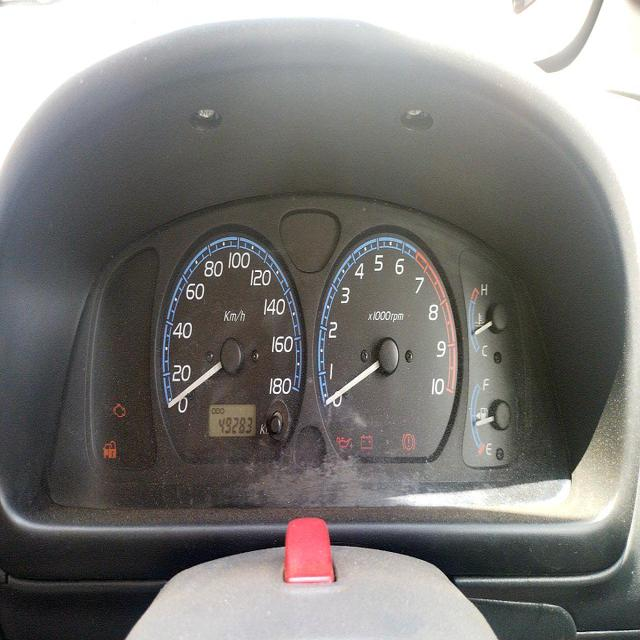odometer: (217, 414, 254, 438)
